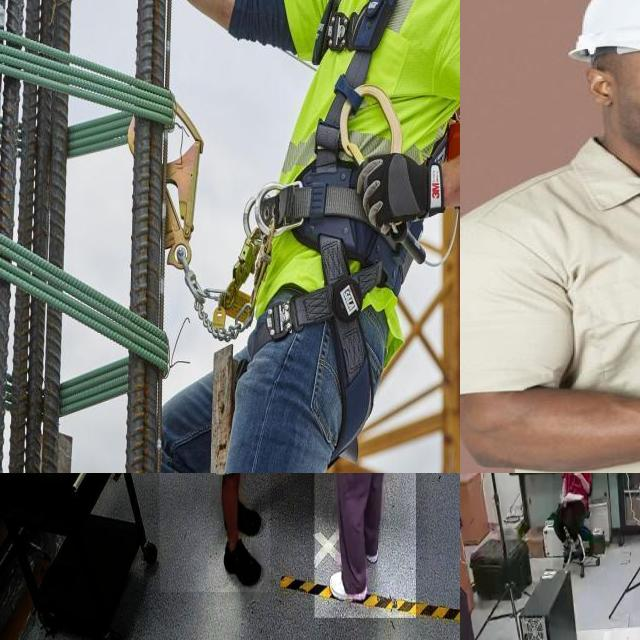Harness: (211, 0, 460, 452)
No_Ear-Protection: (579, 0, 640, 165)
hand_noglove: (560, 490, 568, 508), (570, 473, 579, 476)
person: (314, 473, 416, 619), (159, 473, 270, 593), (552, 473, 593, 567)
shoes: (222, 536, 266, 592), (326, 566, 370, 605), (559, 534, 573, 566), (573, 534, 586, 562)
